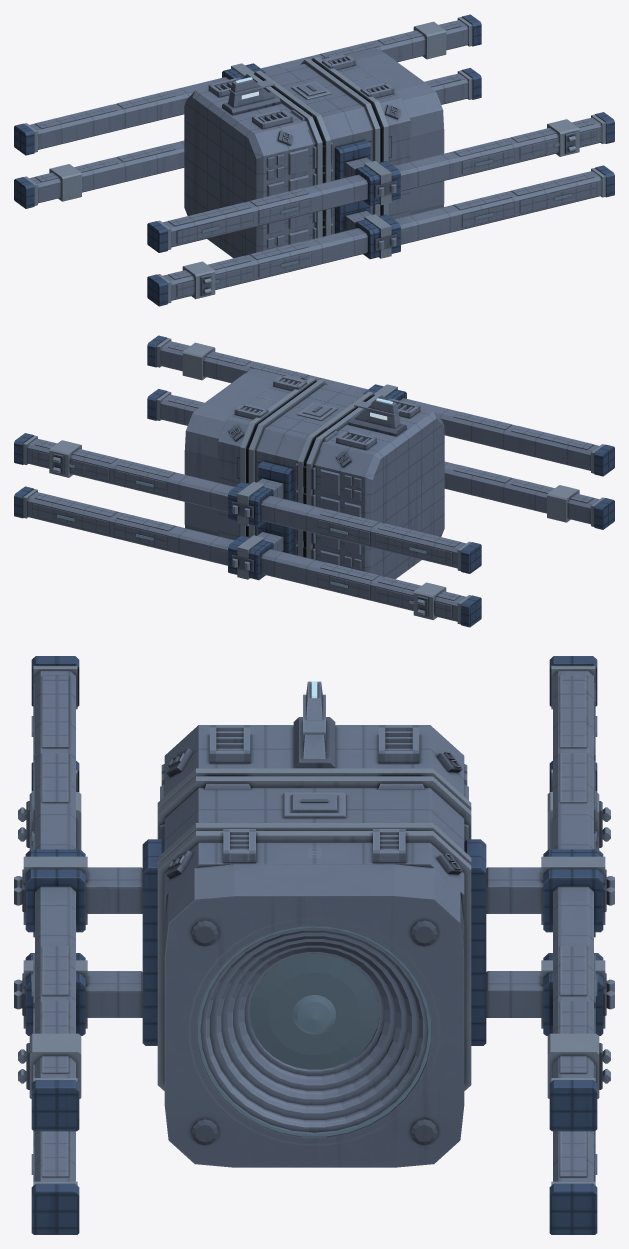
3 renders of one model, top to bottom at view 1: azimuth 30°, elevation 25°; view 2: azimuth 150°, elevation 25°; view 3: azimuth 270°, elevation 25°, orthographic. The views are drawn at different scales.
Visible parts, largest first — view 1: O3_11; view 2: O3_11; view 3: O3_11.
Boxes of the visible parts, <box> form: O3_11: <box>14,14,614,306</box>; O3_11: <box>14,335,614,627</box>; O3_11: <box>14,656,614,1234</box>.
Size of the model in its own units: 1 by 0.3589 by 0.588.
14 materials, 4 textured.
